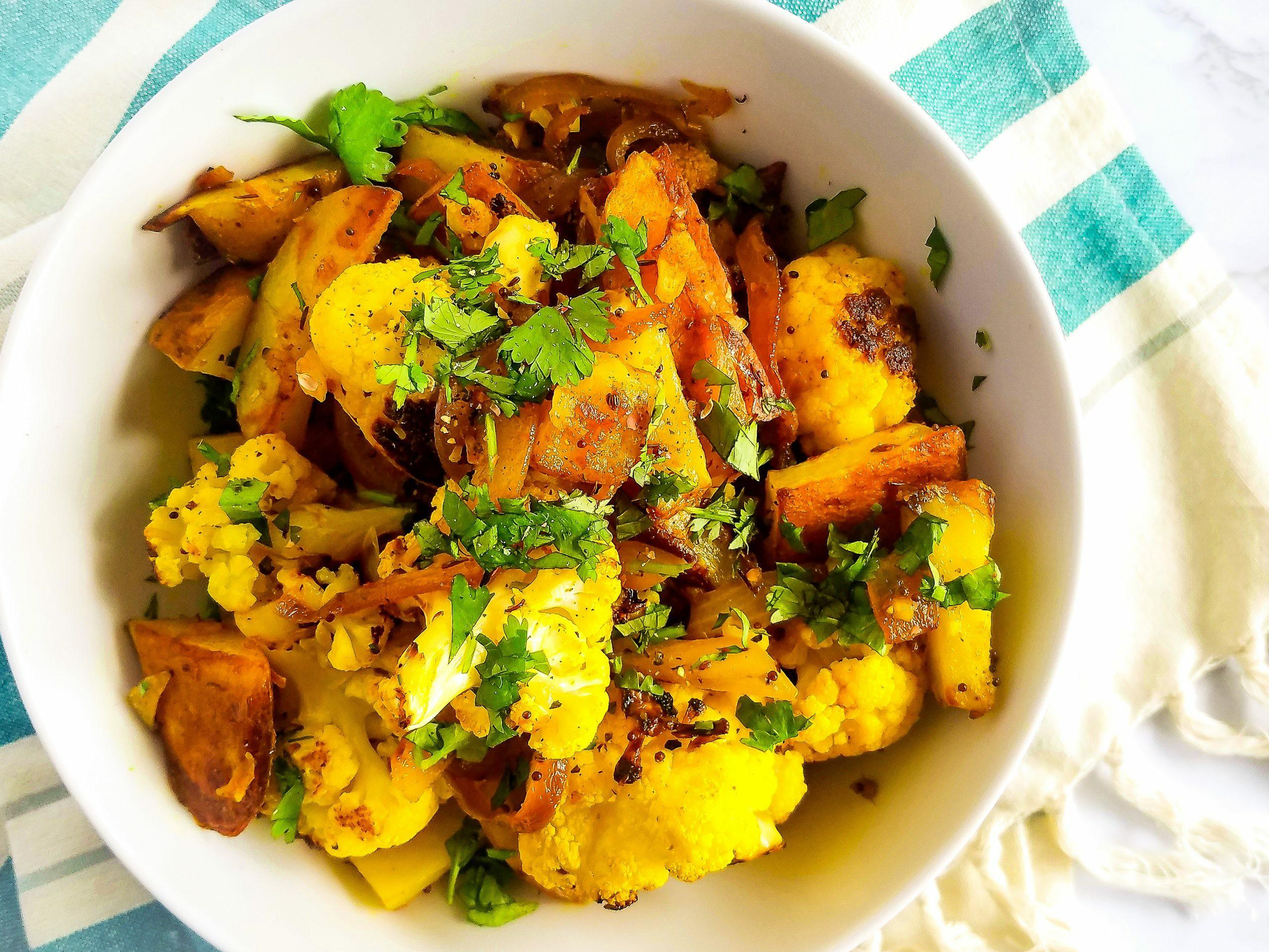AlooGobi: (123, 74, 1008, 925)
